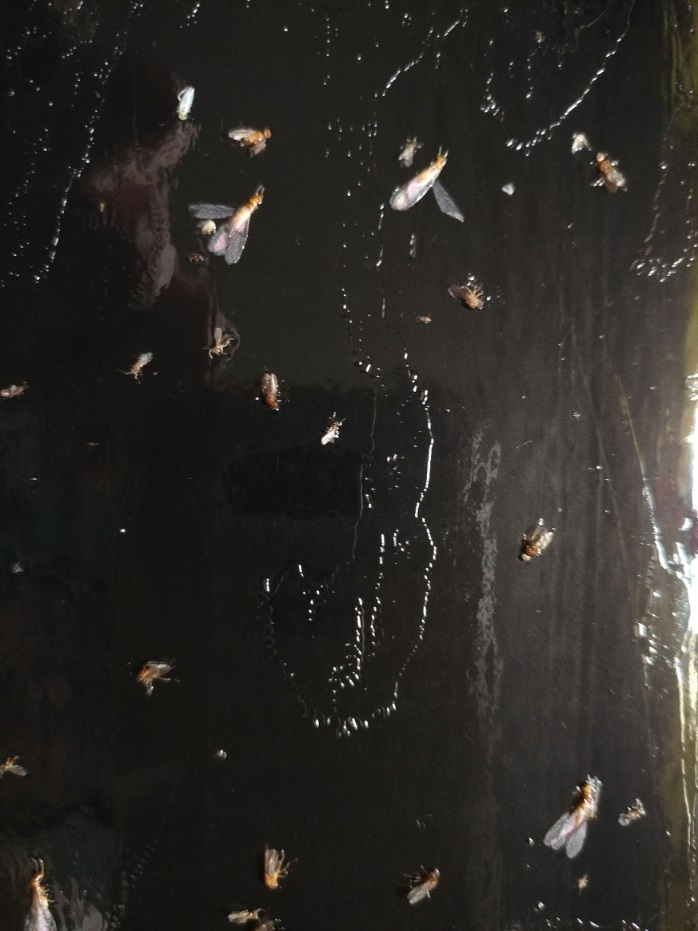flying termite: (388, 134, 465, 235), (191, 183, 274, 272), (531, 763, 606, 856)
